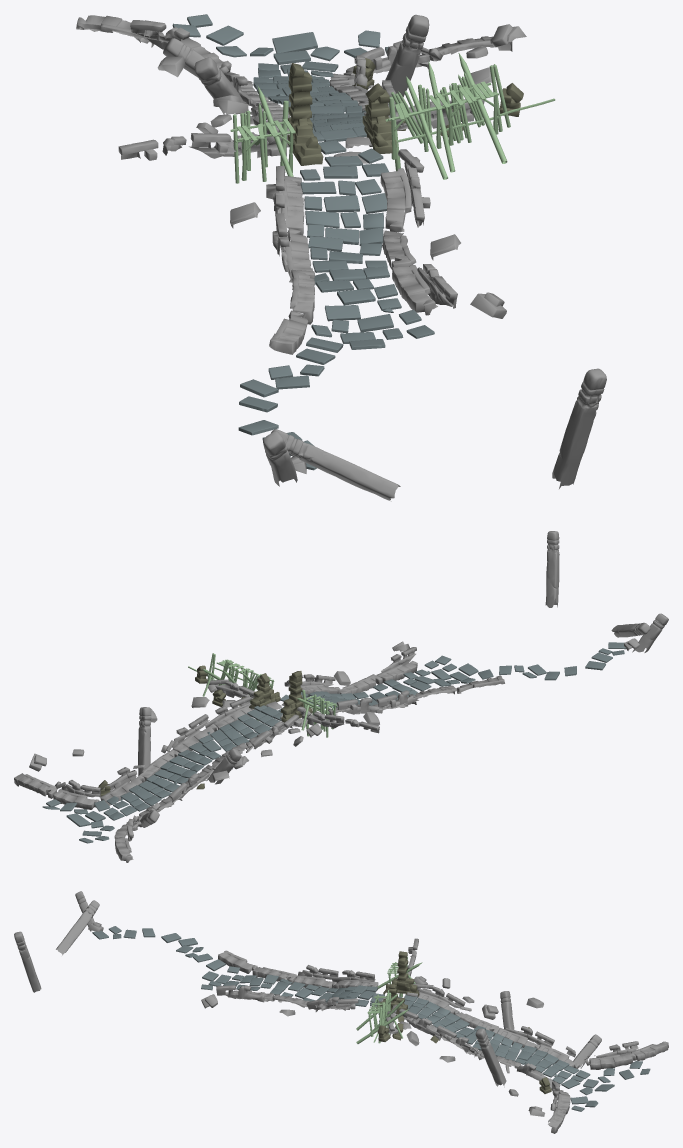
The model's file is Passage.FBX.
The picture shows the model from 3 angles, top to bottom: view 1: azimuth 30°, elevation 25°; view 2: azimuth 150°, elevation 25°; view 3: azimuth 270°, elevation 25°; orthographic projection. The views are drawn at different scales.
Visible parts, largest first — view 1: Beach_entrance_stone_01, Beach_entrance_stone_floor, Beach_entrance_wall, Beach_entrance_arcs; view 2: Beach_entrance_stone_01, Beach_entrance_stone_floor, Beach_entrance_arcs, Beach_entrance_wall; view 3: Beach_entrance_stone_01, Beach_entrance_stone_floor, Beach_entrance_arcs, Beach_entrance_wall.
Boxes of the visible parts, x1,y1,x2,y2 form: Beach_entrance_stone_01: [76, 14, 606, 501]; Beach_entrance_stone_floor: [172, 14, 434, 470]; Beach_entrance_wall: [230, 53, 555, 183]; Beach_entrance_arcs: [287, 58, 523, 165]; Beach_entrance_stone_01: [14, 531, 668, 862]; Beach_entrance_stone_floor: [42, 642, 626, 843]; Beach_entrance_arcs: [98, 665, 312, 796]; Beach_entrance_wall: [188, 653, 337, 737]; Beach_entrance_stone_01: [14, 891, 668, 1133]; Beach_entrance_stone_floor: [92, 926, 650, 1111]; Beach_entrance_arcs: [376, 951, 551, 1093]; Beach_entrance_wall: [356, 957, 422, 1043].
Size of the model in its own units: 4747 by 1178 by 7453.
